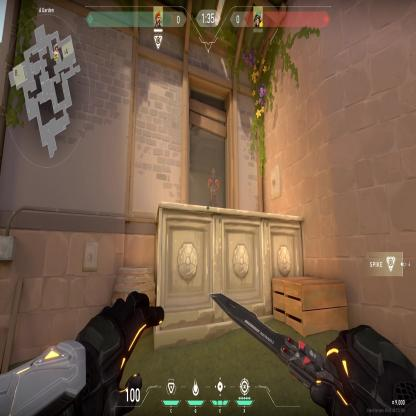enemy: (206, 164, 219, 210)
